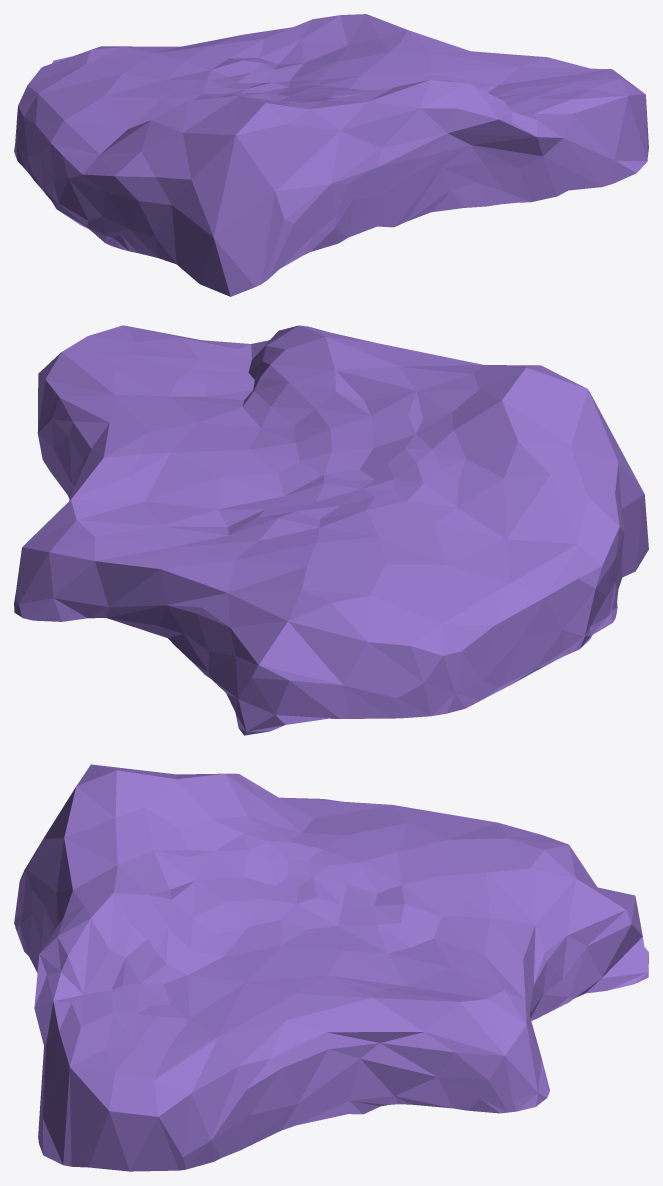
The model's file is ground_011.fbx.
3 renders of one model, top to bottom at view 1: azimuth 30°, elevation 25°; view 2: azimuth 150°, elevation 25°; view 3: azimuth 270°, elevation 25°, orthographic. The views are drawn at different scales.
Visible parts, largest first — view 1: ground.011; view 2: ground.011; view 3: ground.011.
Part boxes in pixels (bbox=[...]): ground.011: bbox=[14, 14, 648, 296]; ground.011: bbox=[14, 325, 648, 735]; ground.011: bbox=[14, 764, 648, 1171].
Bounding box in the file's own units: 2519 × 732 × 2127.
Materials: 1 (1 with a texture image).
